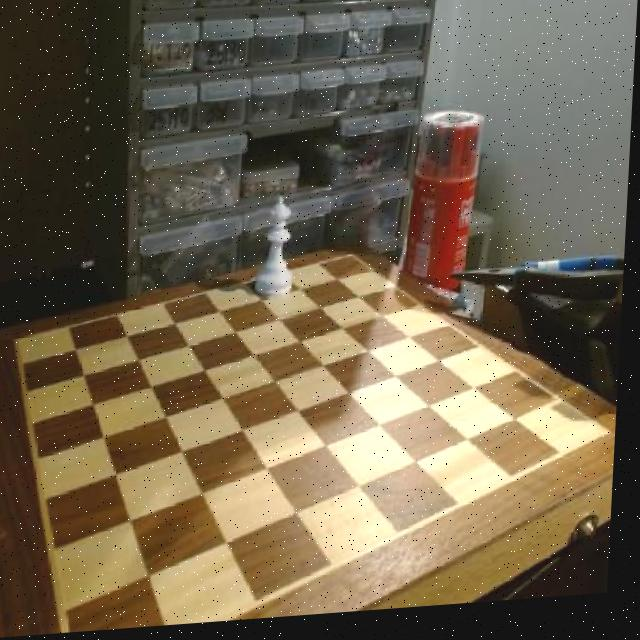white-pawn: (256, 199, 305, 304)
